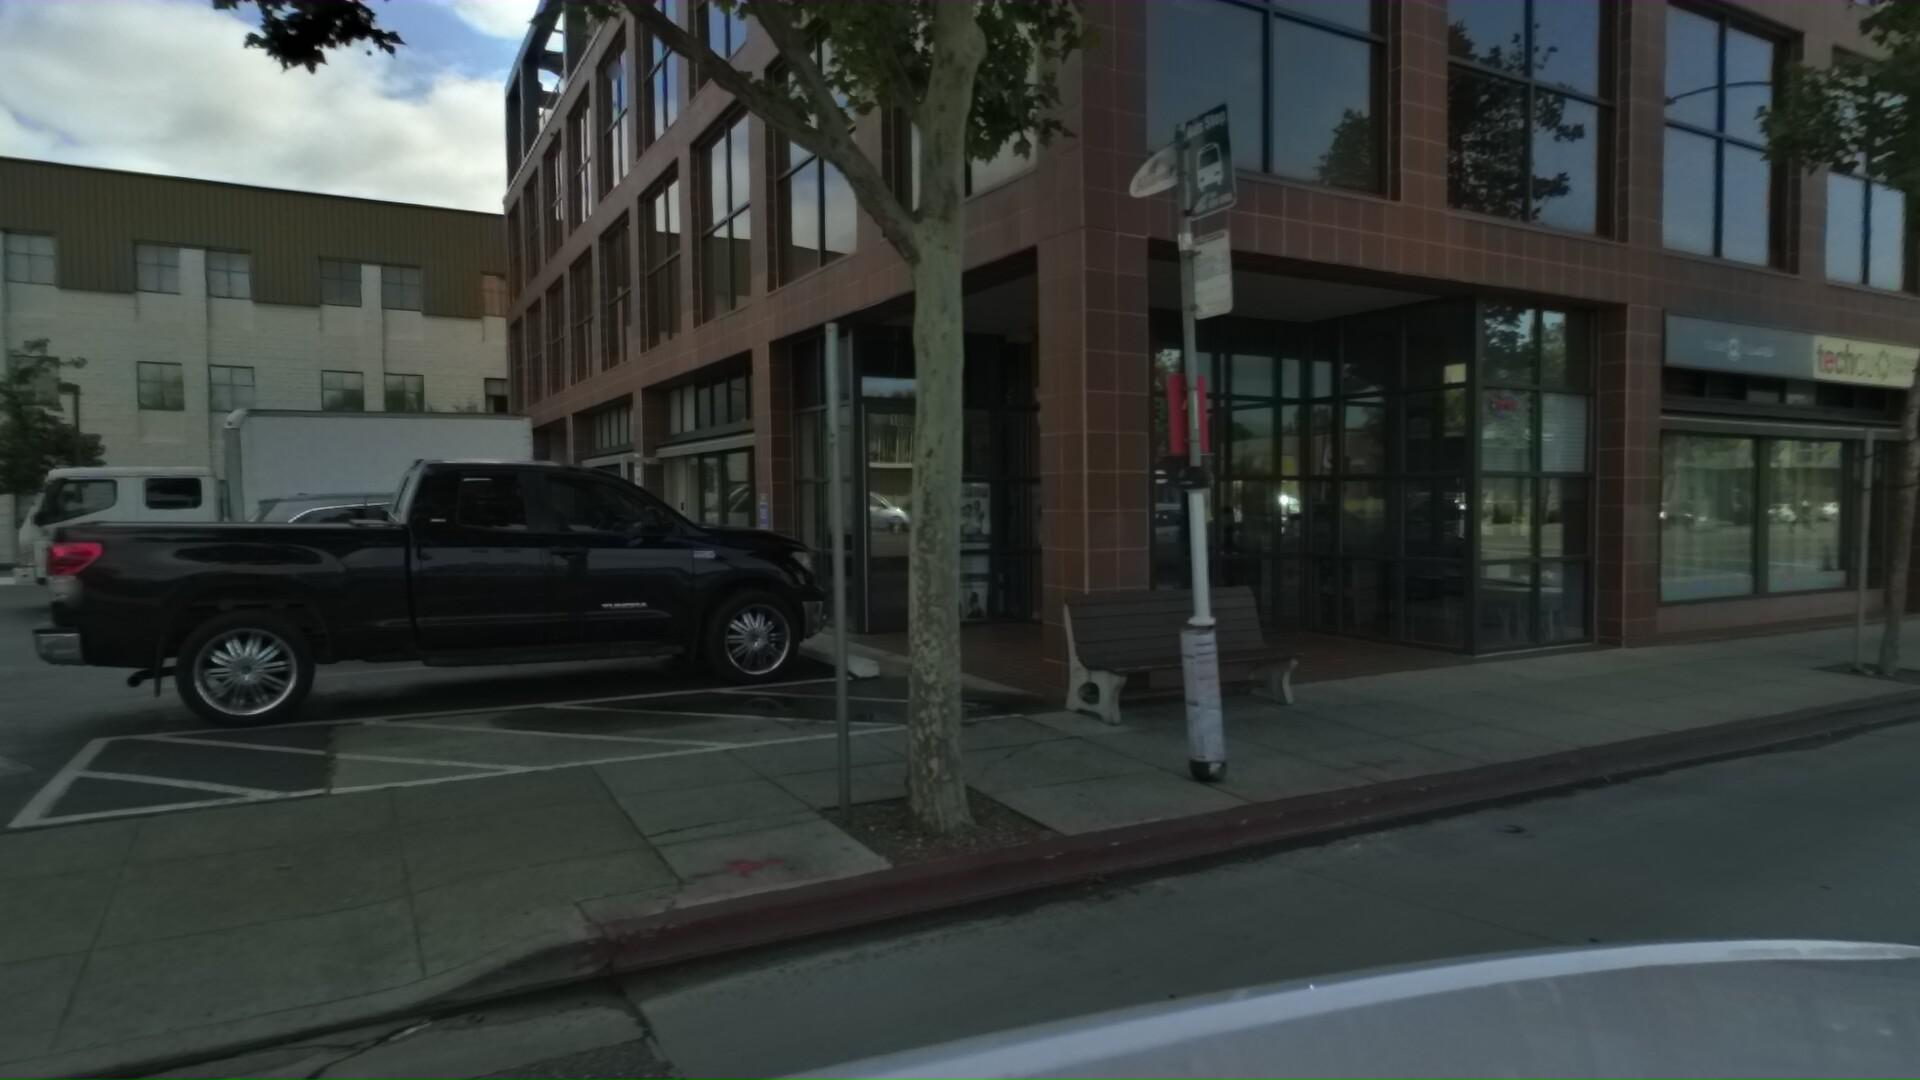car: (76, 464, 911, 775), (1905, 495, 1920, 576)
